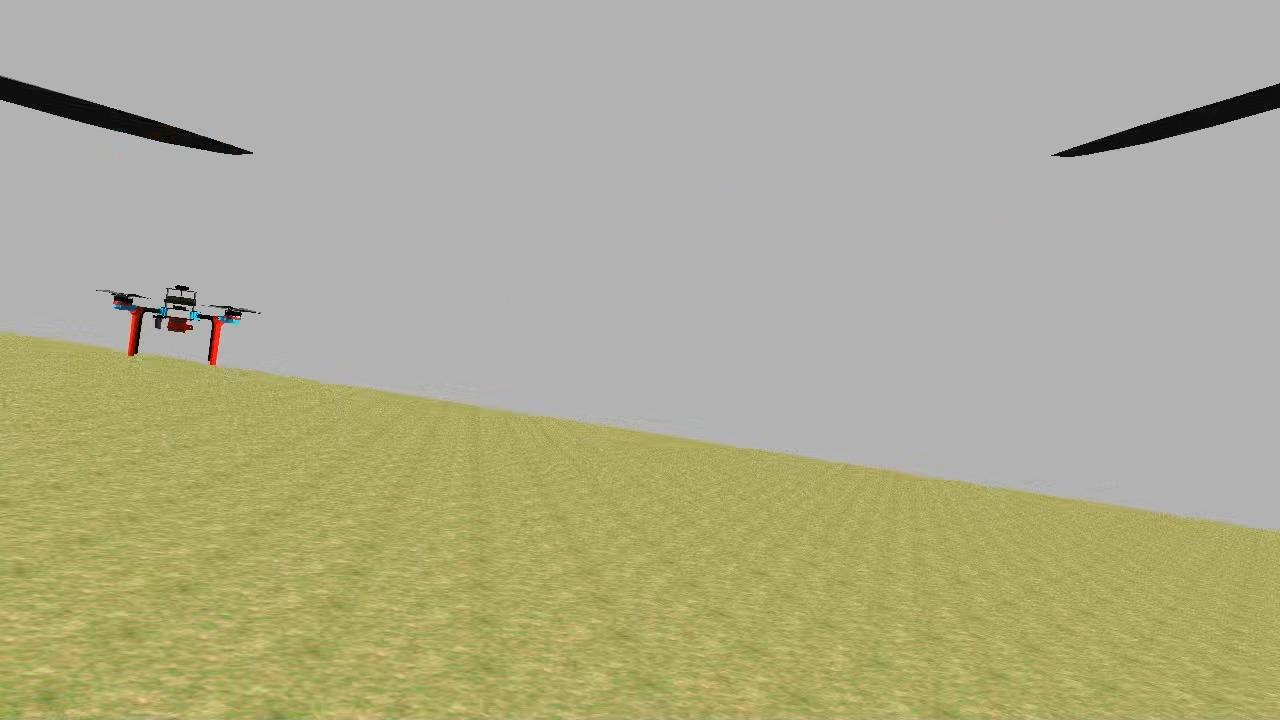UAV: (96, 277, 261, 374)
